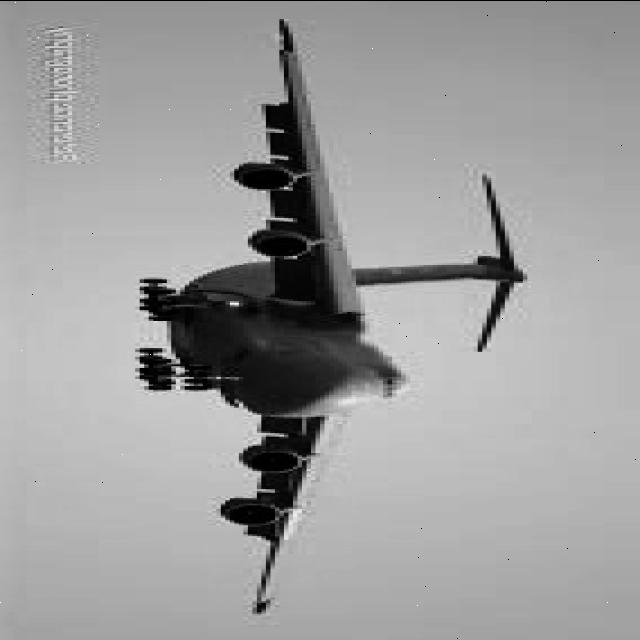C5: (106, 6, 557, 634)
